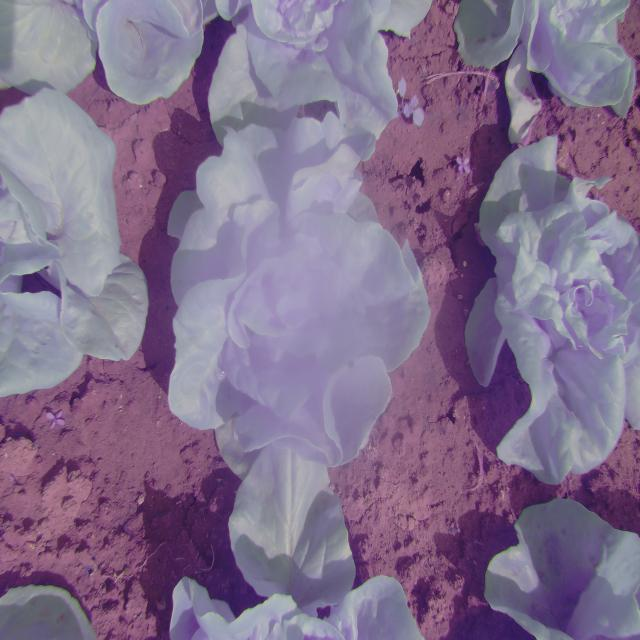vege: (156, 130, 431, 464)
